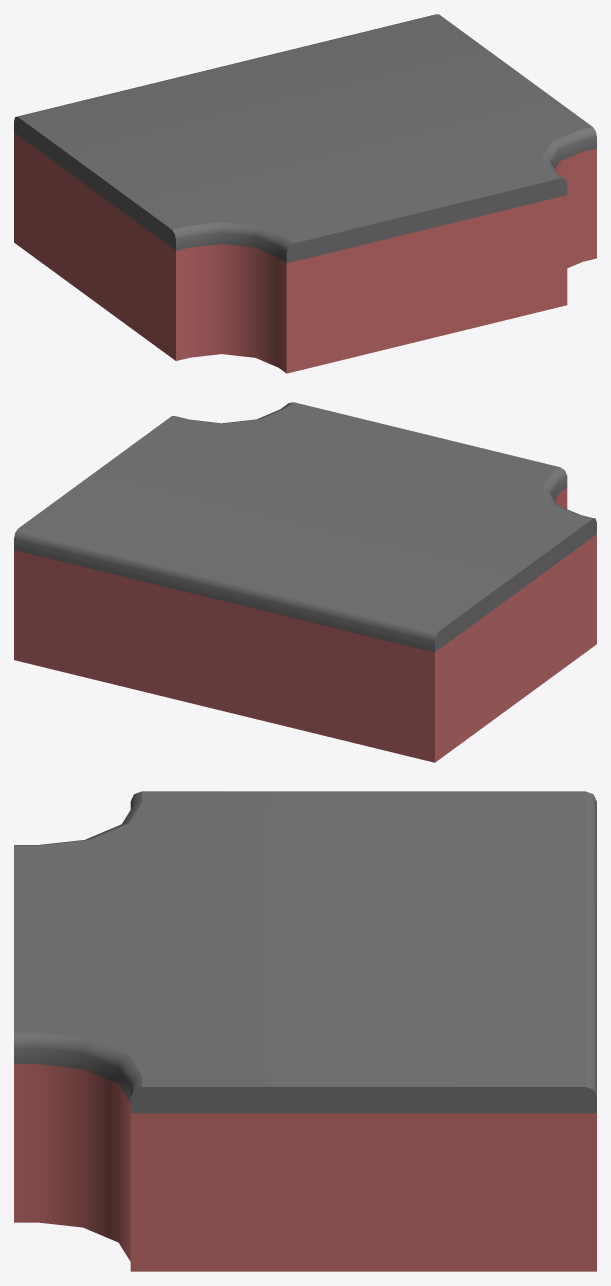
File: Crossroads T.fbx
3 renders of one model, top to bottom at view 1: azimuth 30°, elevation 25°; view 2: azimuth 150°, elevation 25°; view 3: azimuth 270°, elevation 25°, orthographic. The views are drawn at different scales.
Visible parts, largest first — view 1: Crossroads_02, Crossroads_02_ground; view 2: Crossroads_02, Crossroads_02_ground; view 3: Crossroads_02, Crossroads_02_ground.
Part boxes in pixels (box(x1,y1,x2,y2)): Crossroads_02: box(14, 14, 596, 263); Crossroads_02_ground: box(14, 132, 596, 373); Crossroads_02: box(14, 402, 596, 652); Crossroads_02_ground: box(14, 487, 596, 762); Crossroads_02: box(14, 791, 596, 1113); Crossroads_02_ground: box(14, 1064, 596, 1271).
Bounding box in the file's own units: 1200 × 350 × 1000.
